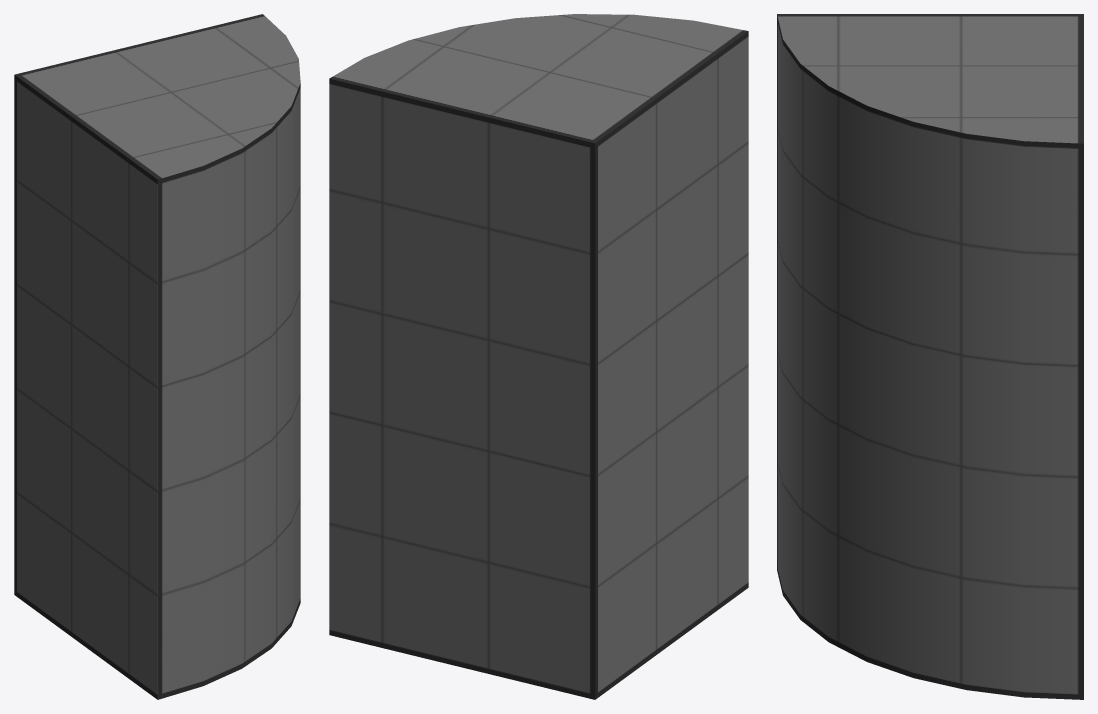
The model's file is QuarterCylinder.glb.
The picture shows the model from 3 angles, left to right: view 1: azimuth 30°, elevation 25°; view 2: azimuth 150°, elevation 25°; view 3: azimuth 270°, elevation 25°; orthographic projection. The views are drawn at different scales.
Parts seen in each view (by area): view 1: SM_QuarterCylinder; view 2: SM_QuarterCylinder; view 3: SM_QuarterCylinder.
Part boxes in pixels (x1,y1,x2,y2): SM_QuarterCylinder: (14, 14, 300, 699); SM_QuarterCylinder: (329, 14, 748, 699); SM_QuarterCylinder: (777, 14, 1083, 699).
Size of the model in its own units: 0.5 by 1 by 0.5.
1 material, 1 textured.
